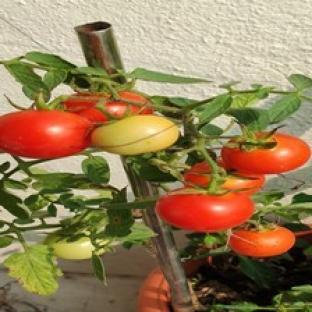Tomato: (0, 111, 93, 158), (156, 189, 254, 232), (222, 133, 310, 174), (91, 115, 179, 154), (63, 91, 153, 122), (229, 226, 295, 257), (45, 233, 94, 260), (222, 170, 266, 194)
